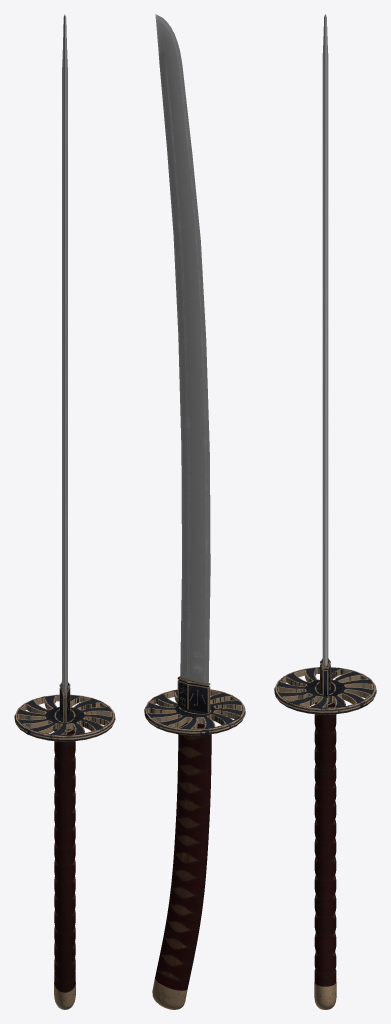
Rendered from antique_katana.glb.
3 renders of one model, left to right at view 1: azimuth 90°, elevation 25°; view 2: azimuth 150°, elevation 25°; view 3: azimuth 270°, elevation 25°, orthographic.
Visible parts, largest first — view 1: antique_katana_01; view 2: antique_katana_01; view 3: antique_katana_01.
Boxes of the visible parts, x1,y1,x2,y2 form: antique_katana_01: (14, 14, 115, 1009); antique_katana_01: (144, 14, 245, 1009); antique_katana_01: (274, 14, 376, 1009).
Bounding box in the file's own units: 0.0934 × 1 × 0.0934.
Materials: 1 (1 with a texture image).
